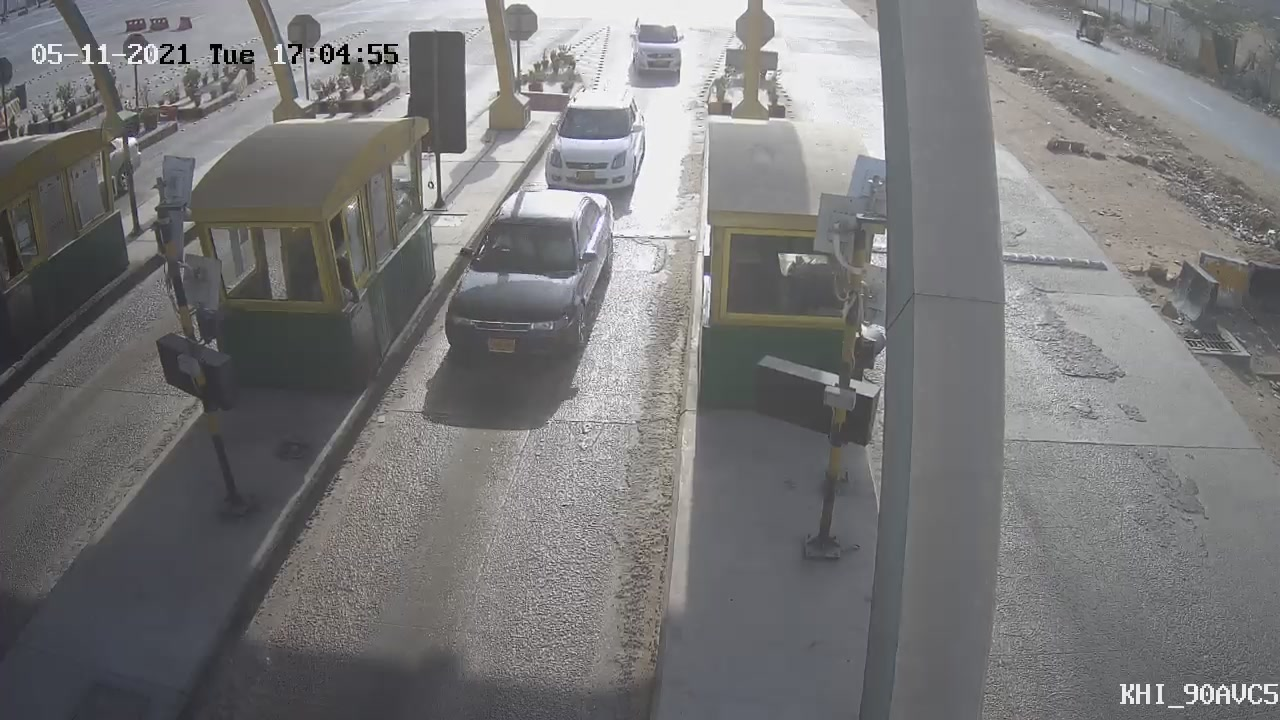F1: (418, 167, 631, 379), (534, 73, 658, 206)
